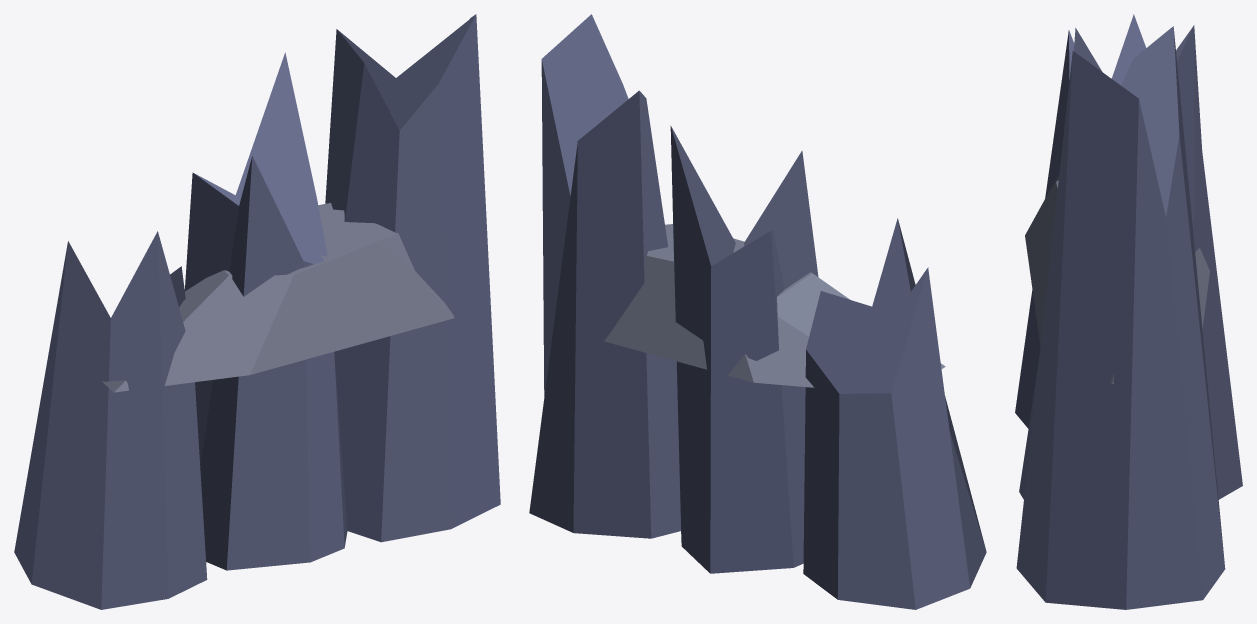
Rendered from map-boundaries-v5__highland_04.glb.
3 views of the same model, side by side, from view 1: azimuth 30°, elevation 25°; view 2: azimuth 150°, elevation 25°; view 3: azimuth 270°, elevation 25° (orthographic). The views are drawn at different scales.
Visible parts, largest first — view 1: highland_04; view 2: highland_04; view 3: highland_04.
Part boxes in pixels (x1,y1,x2,y2): highland_04: (14, 14, 500, 609); highland_04: (529, 14, 986, 609); highland_04: (1015, 14, 1242, 609).
Bounding box in the file's own units: 1.52 × 1.58 × 0.5981.
